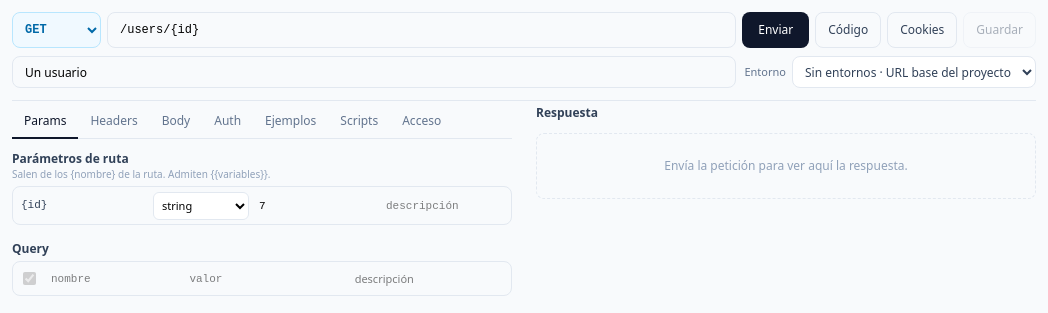
it: parámetros, query y cabeceras › una ruta sin parámetros explica cómo declararlos
Replace the text in the field showing "/users/{id}" with "/users" at (422, 30), box [107,12,736,48]
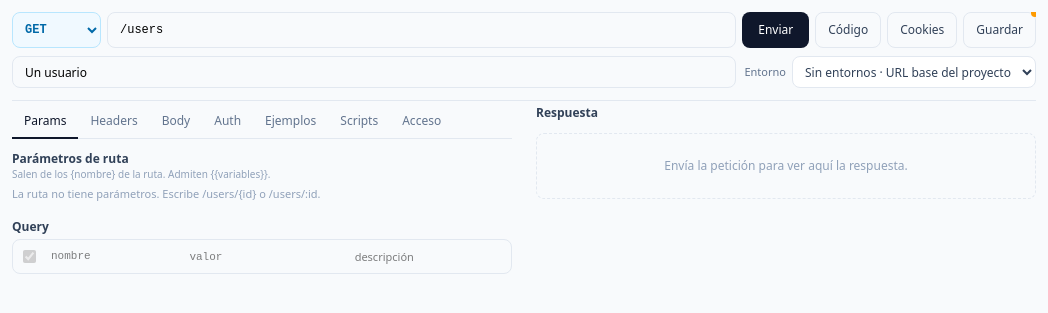
Expected: the text "La ruta no tiene parámetros" is shown, [12,186,238,201]
